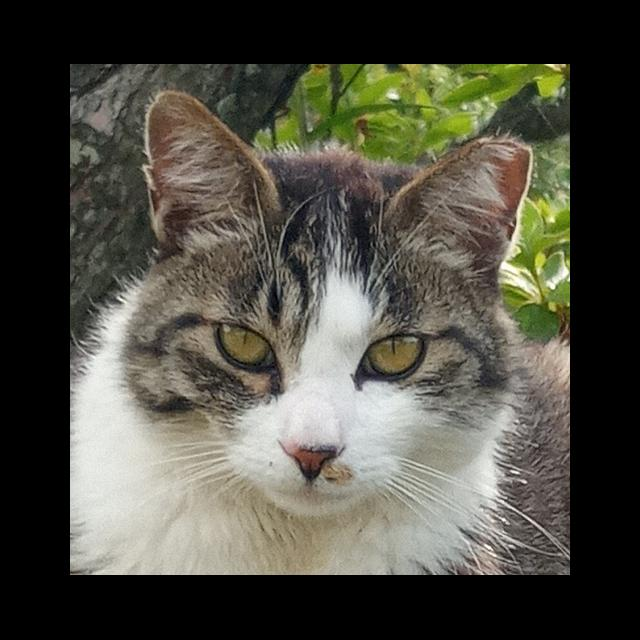animals: (123, 86, 534, 529)
